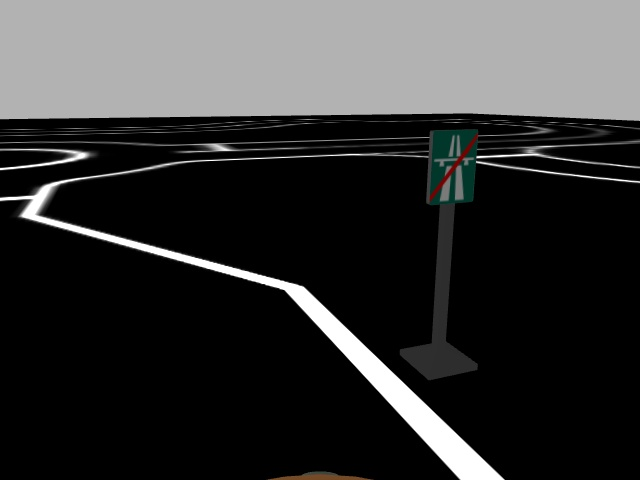leave_highway: (427, 127, 478, 204)
